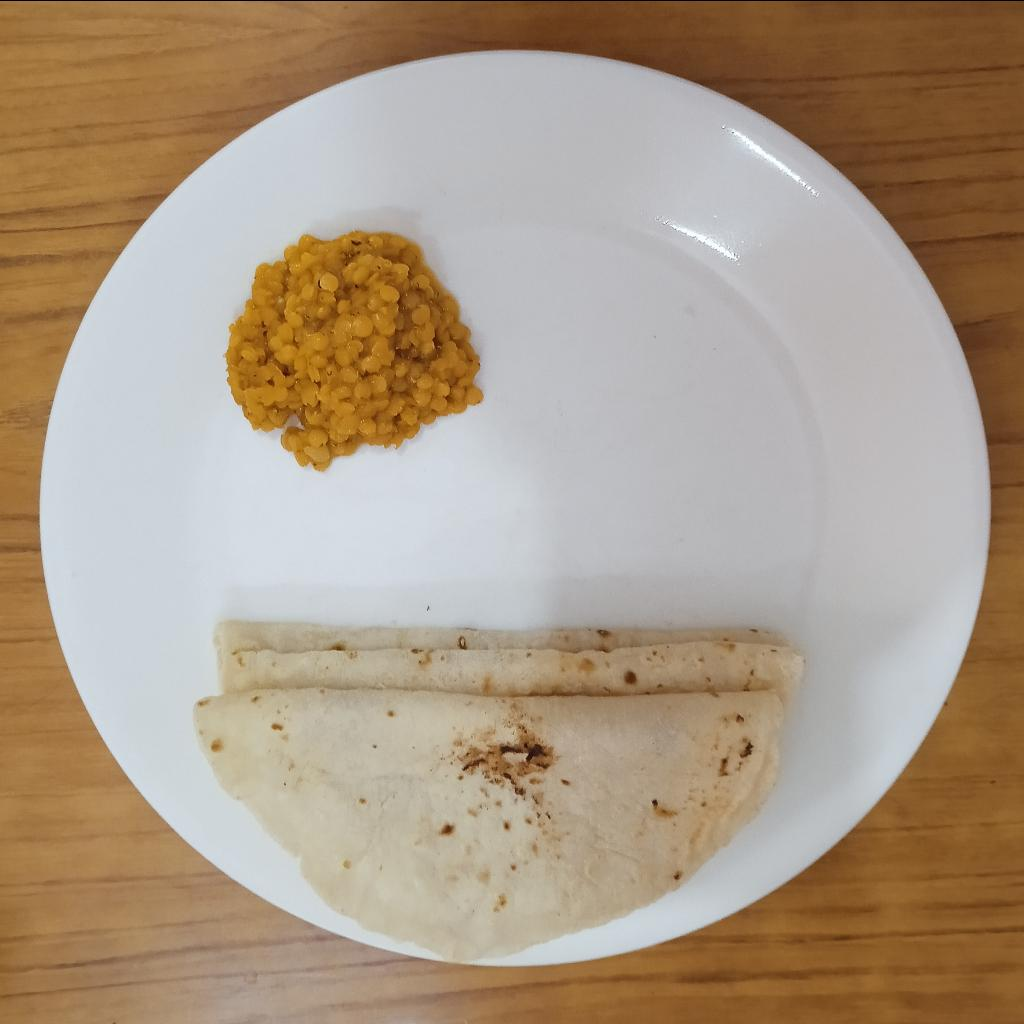daal: (227, 229, 484, 471)
ruti: (192, 617, 805, 962)
